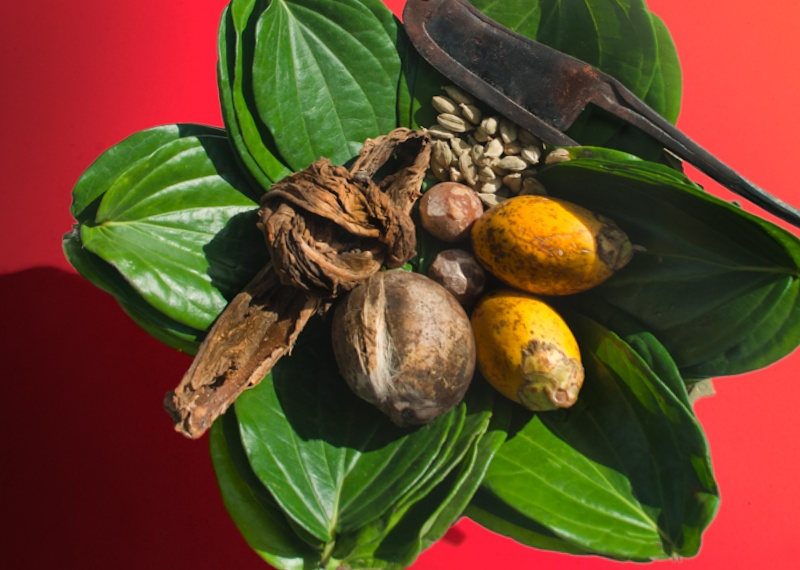bulathwita: (42, 0, 800, 570)
